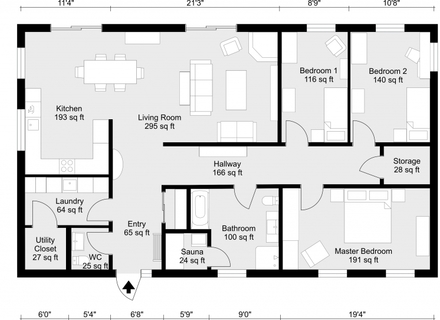door: (27, 198, 57, 224), (356, 152, 380, 179), (297, 191, 321, 215), (85, 198, 106, 221), (84, 228, 105, 251), (350, 118, 371, 141), (283, 117, 304, 140), (213, 246, 234, 269)
room: (16, 23, 285, 150), (275, 181, 438, 283), (345, 19, 438, 151), (274, 22, 354, 150), (184, 182, 284, 283), (17, 173, 115, 228), (15, 220, 71, 279), (157, 228, 215, 281), (65, 222, 116, 280)
